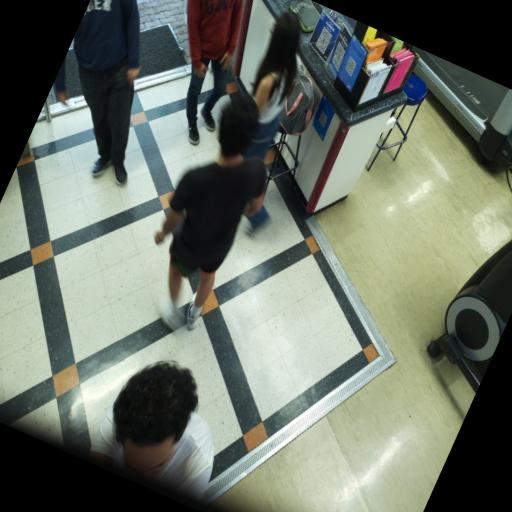person: (156, 93, 266, 330), (89, 362, 213, 500), (74, 0, 139, 184), (243, 13, 299, 159), (186, 0, 242, 145)
